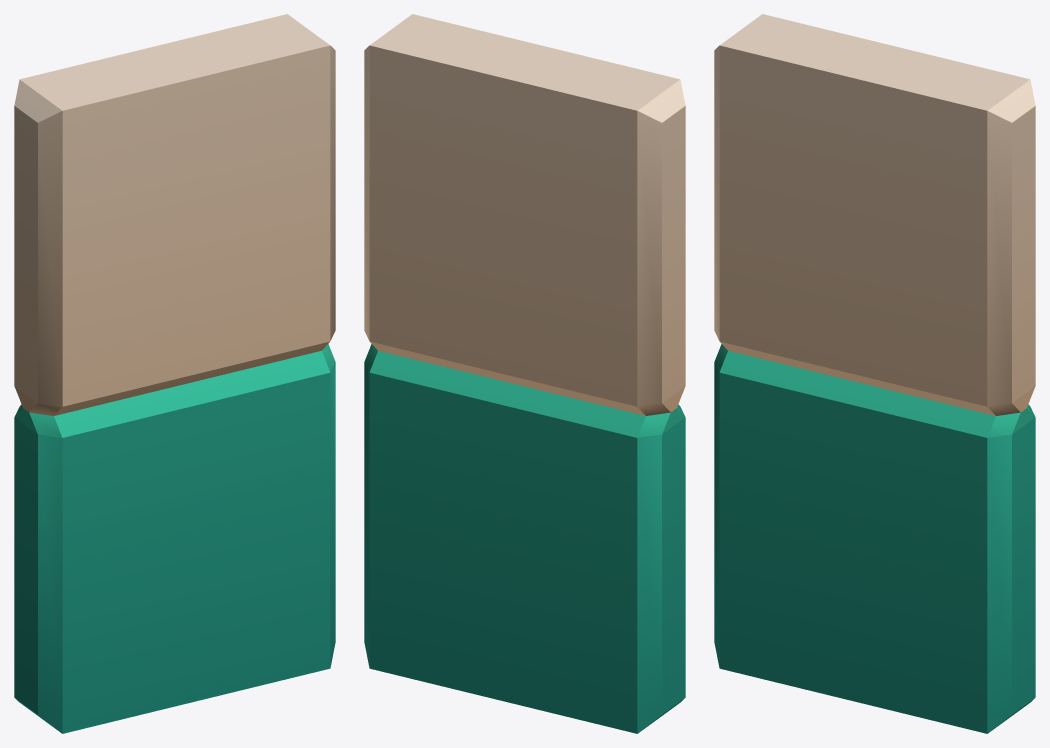
File: wall-half.glb
The picture shows the model from 3 angles, left to right: view 1: azimuth 30°, elevation 25°; view 2: azimuth 150°, elevation 25°; view 3: azimuth 330°, elevation 25°; orthographic projection.
Parts seen in each view (by area): view 1: wall_half; view 2: wall_half; view 3: wall_half.
Part boxes in pixels (x1,y1,x2,y2): wall_half: (14,14,335,733); wall_half: (364,14,685,733); wall_half: (714,14,1035,733).
Bounding box in the file's own units: 2 × 4 × 0.5.
1 material, 1 textured.
